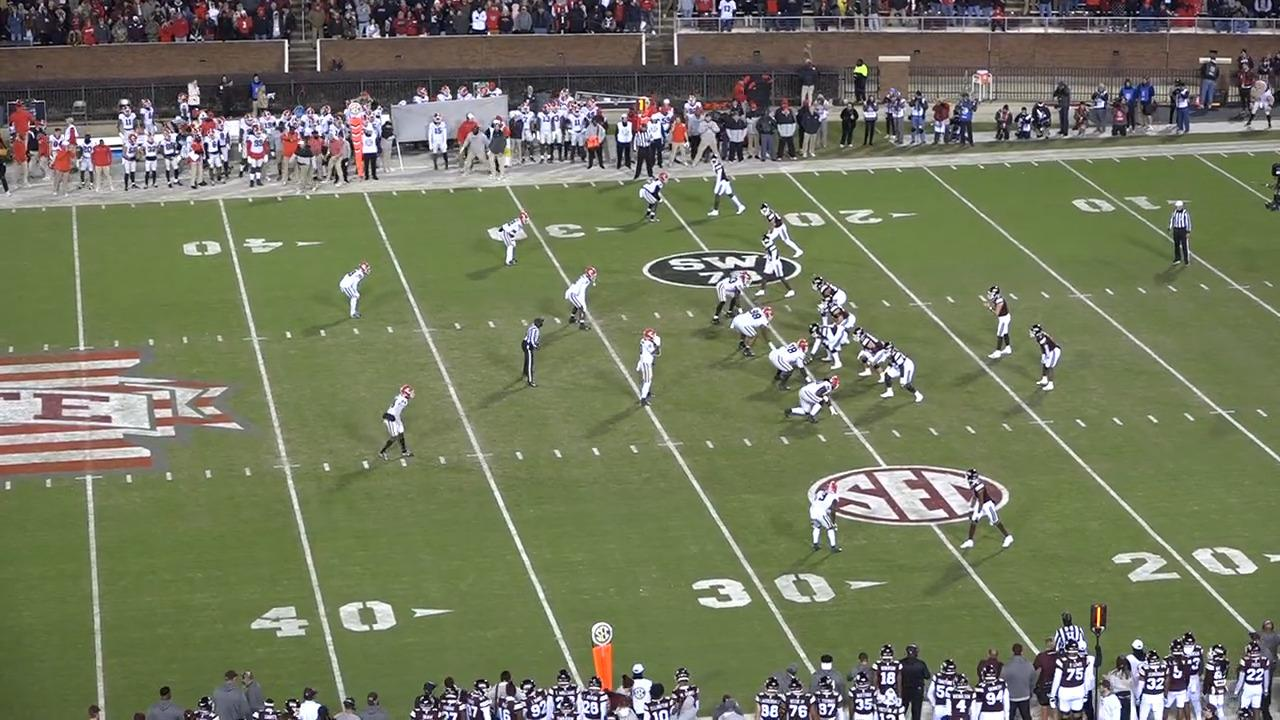defense: (375, 381, 415, 460), (808, 477, 847, 557), (784, 377, 838, 427), (725, 303, 772, 359), (772, 339, 817, 395), (632, 330, 661, 412), (710, 269, 751, 326), (569, 264, 602, 330), (335, 261, 369, 321), (494, 210, 525, 266), (642, 168, 671, 223)
oline: (881, 342, 927, 404), (851, 326, 890, 385), (802, 322, 843, 372), (819, 298, 858, 331), (811, 276, 847, 309)
qb: (979, 284, 1011, 364)
ref: (1165, 199, 1196, 267), (631, 119, 665, 181), (518, 316, 545, 392), (1049, 606, 1082, 658)
skill: (953, 467, 1014, 557), (751, 236, 792, 302), (760, 201, 804, 260), (706, 156, 746, 220), (1027, 323, 1061, 393)
